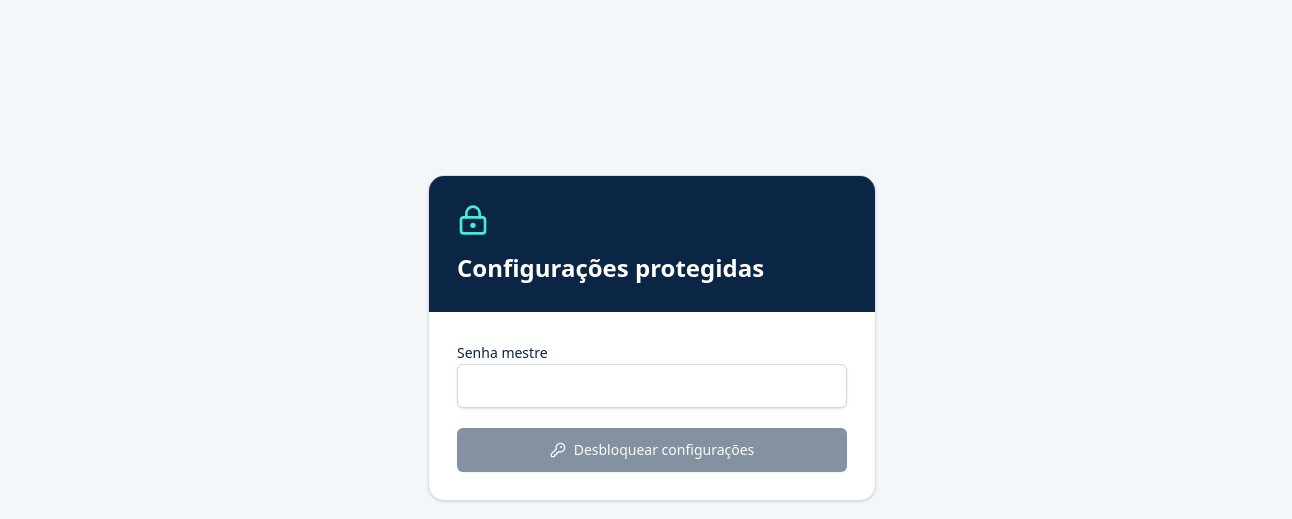
Scenario: não monta as configurações antes da confirmação do backend e bloqueia novamente
Type "test-only-passphrase" into the password field labelled "Senha mestre". click: (652, 386)
box: [457,364,847,408]
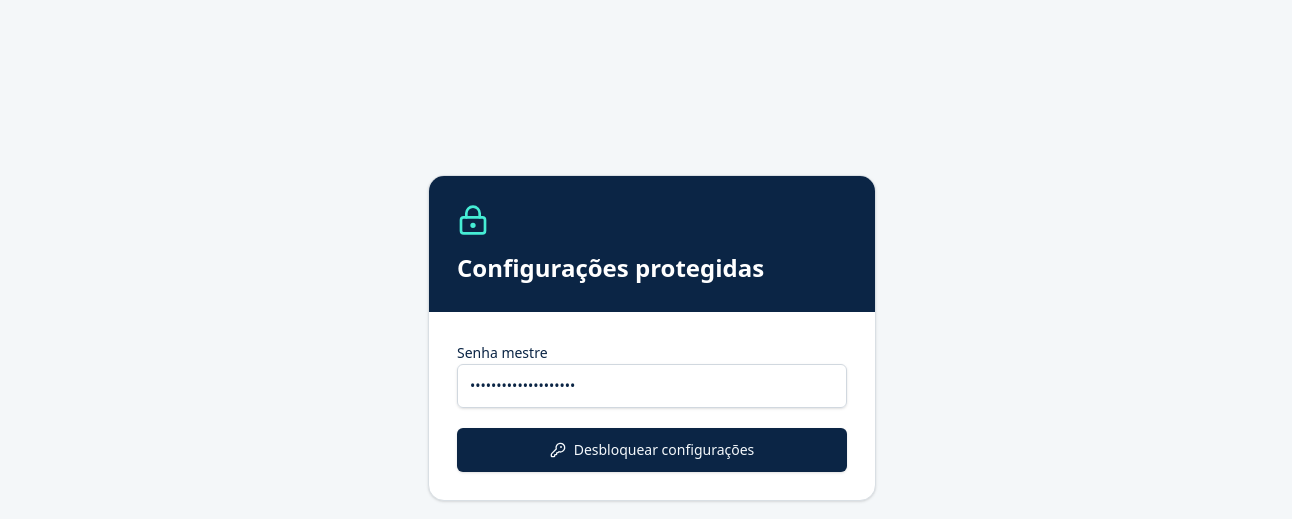
Click the button "Desbloquear configurações". click: (652, 450)
box: [457,428,847,472]
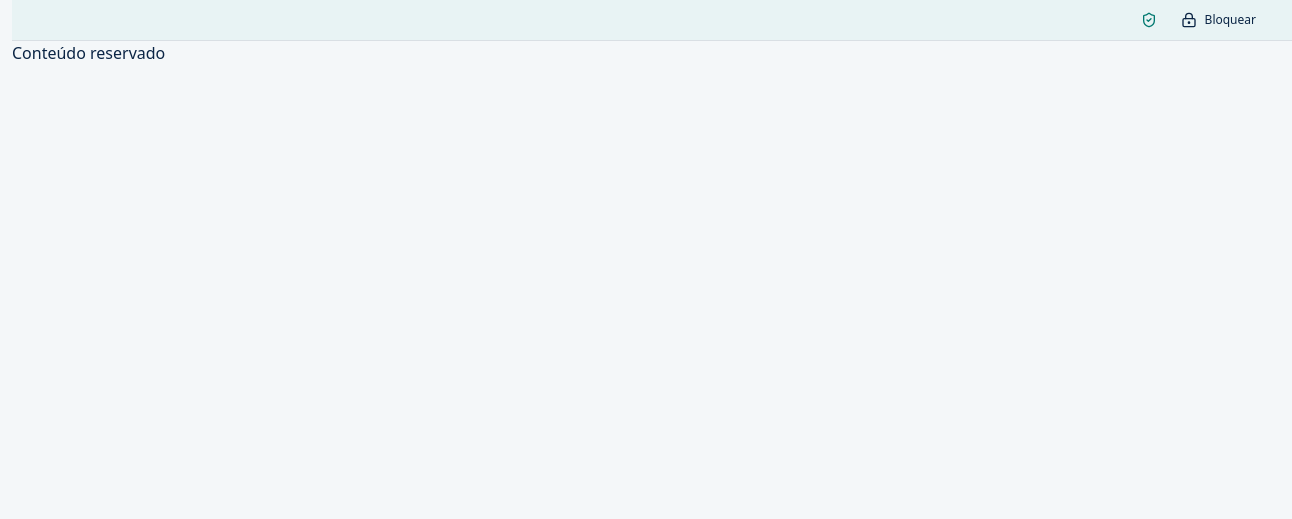
Result: the text "Conteúdo reservado" is shown at [12,42,165,64]
Click the button "Bloquear". click: (1218, 20)
box: [1169,4,1268,36]
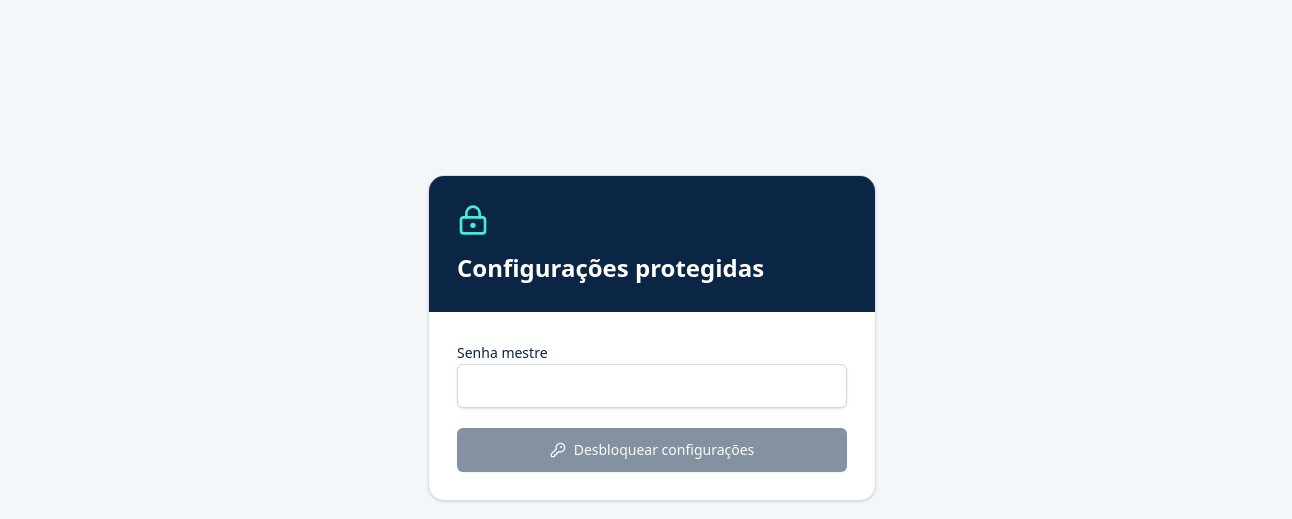
Expected: the password field labelled "Senha mestre" is empty, [457,364,847,408]
Result: the text "Conteúdo reservado" is gone
